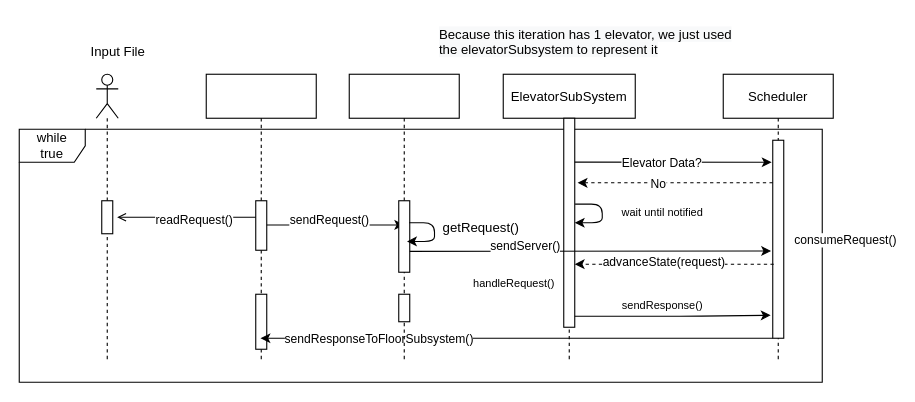
The diagram is 915 pixels wide and 402 high, and some of its shapes have lost their labels. Each missing label, with the centre of its shape:
Floor: the point at 403,216
FloorSubSystem: the point at 260,216
